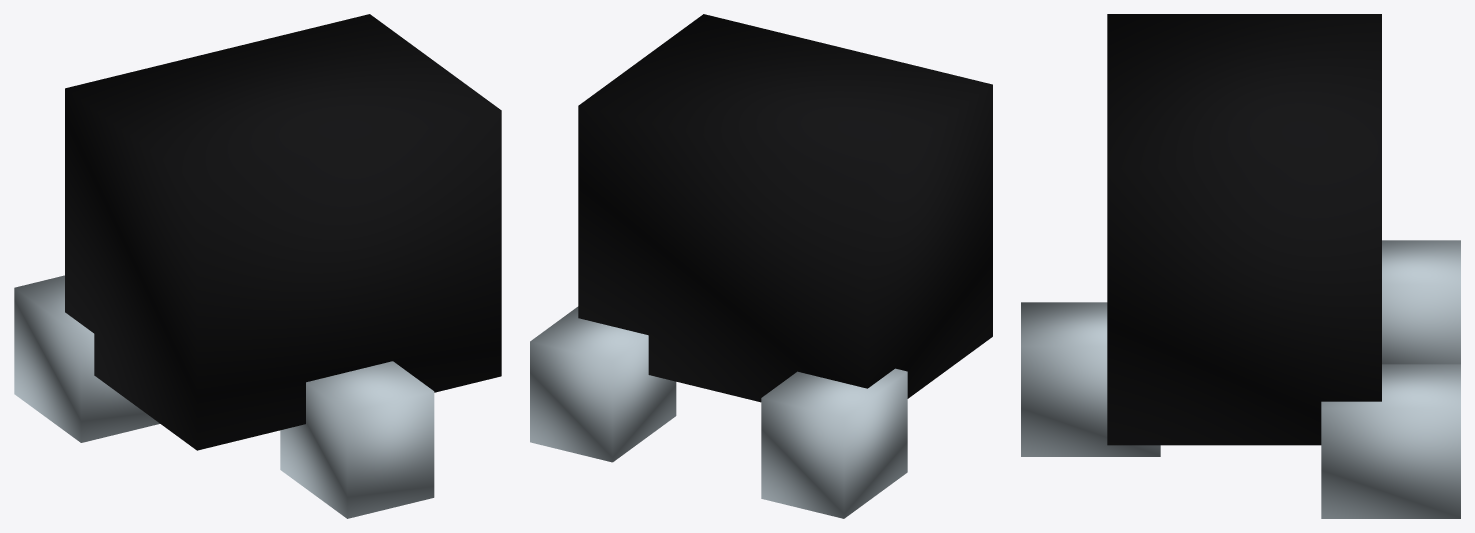
The model's file is 20_L94_Q1_LoadMOSFET_SOT23.fbx.
3 views of the same model, side by side, from view 1: azimuth 30°, elevation 25°; view 2: azimuth 150°, elevation 25°; view 3: azimuth 270°, elevation 25° (orthographic). The views are drawn at different scales.
Visible parts, largest first — view 1: L94_LoadMOSFET_SOT23_Part_0000, L94_LoadMOSFET_SOT23_Part_0001; view 2: L94_LoadMOSFET_SOT23_Part_0000, L94_LoadMOSFET_SOT23_Part_0001; view 3: L94_LoadMOSFET_SOT23_Part_0000, L94_LoadMOSFET_SOT23_Part_0001.
Boxes of the visible parts, x1,y1,x2,y2 form: L94_LoadMOSFET_SOT23_Part_0000: (65,14,501,450); L94_LoadMOSFET_SOT23_Part_0001: (14,275,434,518); L94_LoadMOSFET_SOT23_Part_0000: (578,14,992,402); L94_LoadMOSFET_SOT23_Part_0001: (530,306,907,518); L94_LoadMOSFET_SOT23_Part_0000: (1107,14,1381,445); L94_LoadMOSFET_SOT23_Part_0001: (1021,240,1460,518).
Size of the model in its own units: 4.56 by 4.35 by 5.04.
